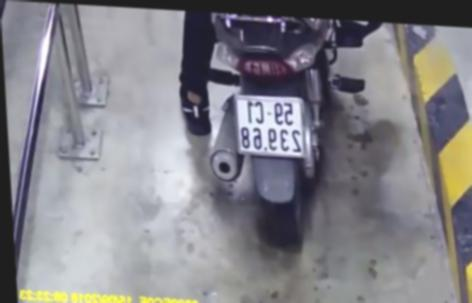License_Plate: (228, 91, 315, 163)
